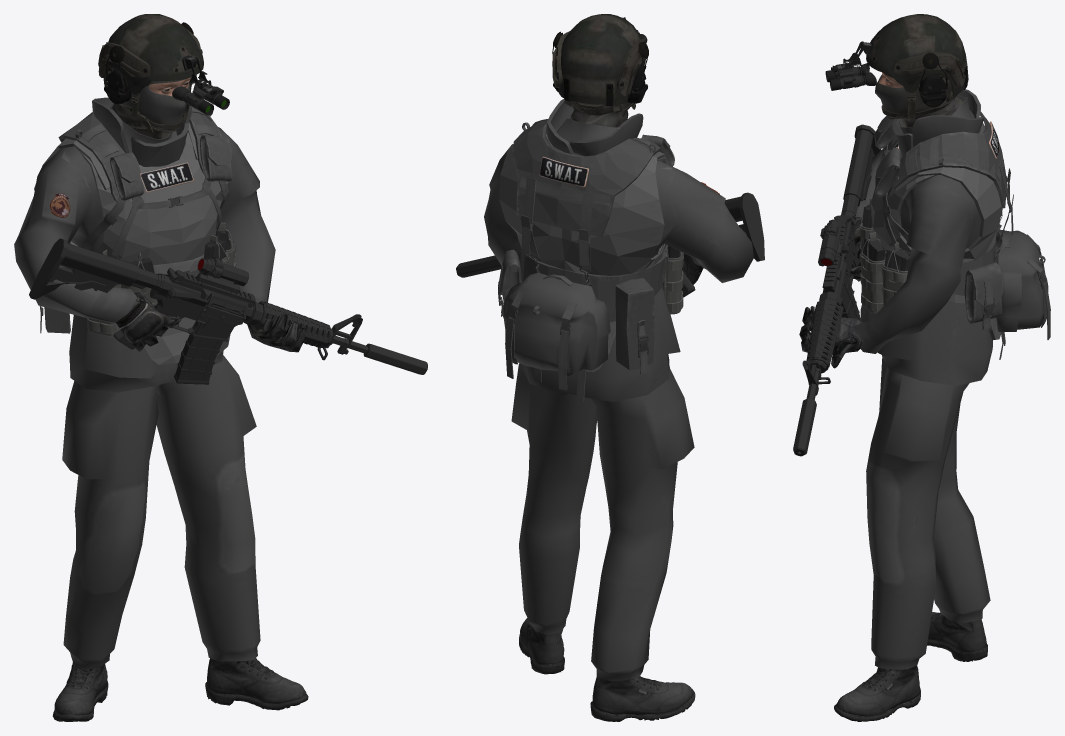
Rendered from swat-3.glb.
3 views of the same model, side by side, from view 1: azimuth 30°, elevation 25°; view 2: azimuth 150°, elevation 25°; view 3: azimuth 270°, elevation 25° (orthographic). The views are drawn at different scales.
Size of the model in its own units: 99.44 by 184 by 65.54.
Materials: 13 (10 with a texture image).
